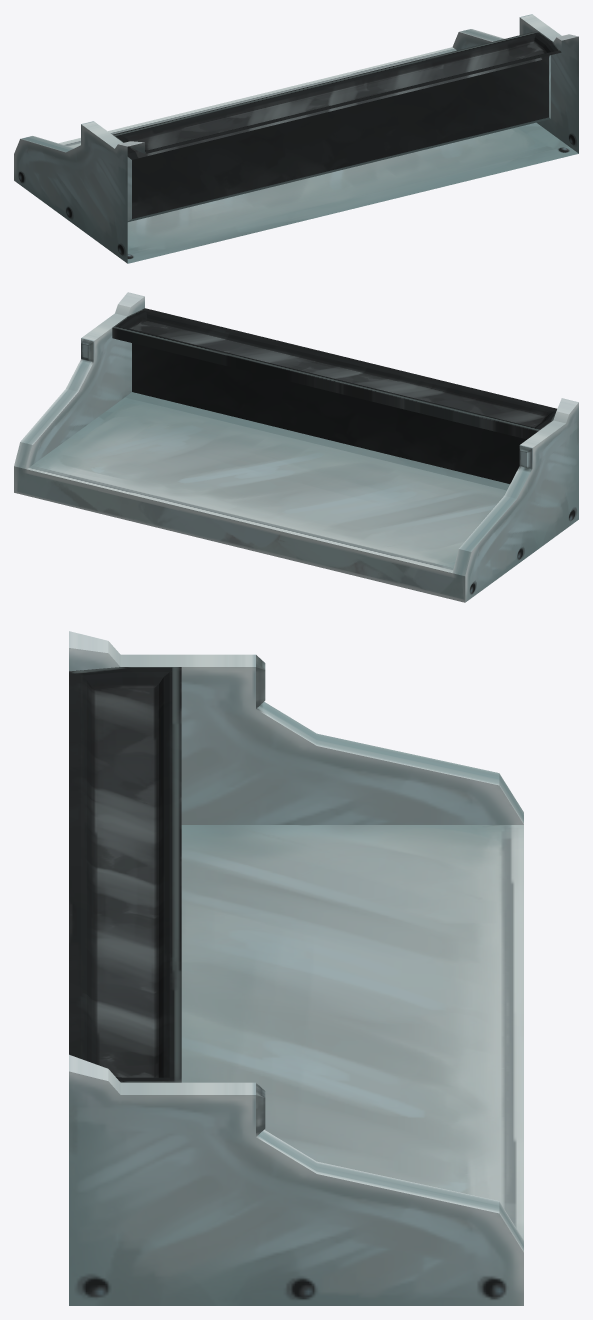
Rendered from Tool Rack_Ver2.fbx.
3 views of the same model, one above another, from view 1: azimuth 30°, elevation 25°; view 2: azimuth 150°, elevation 25°; view 3: azimuth 270°, elevation 25° (orthographic). The views are drawn at different scales.
Parts seen in each view (by area): view 1: ToolRack; view 2: ToolRack; view 3: ToolRack.
Boxes of the visible parts, x1=… form: ToolRack: x1=14, y1=14, x2=578, y2=263; ToolRack: x1=14, y1=292, x2=578, y2=602; ToolRack: x1=69, y1=631, x2=523, y2=1305.
Bounding box in the file's own units: 895 × 222 × 391.
Materials: 1 (1 with a texture image).
